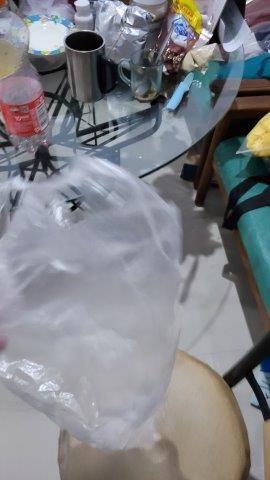plastik: (1, 157, 182, 453)
